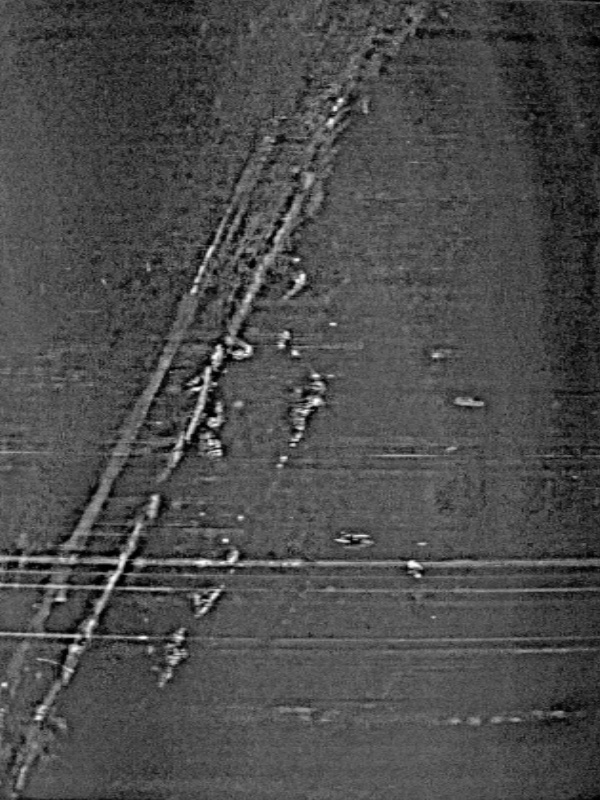splice_vulcanized: (2, 1, 422, 797)
